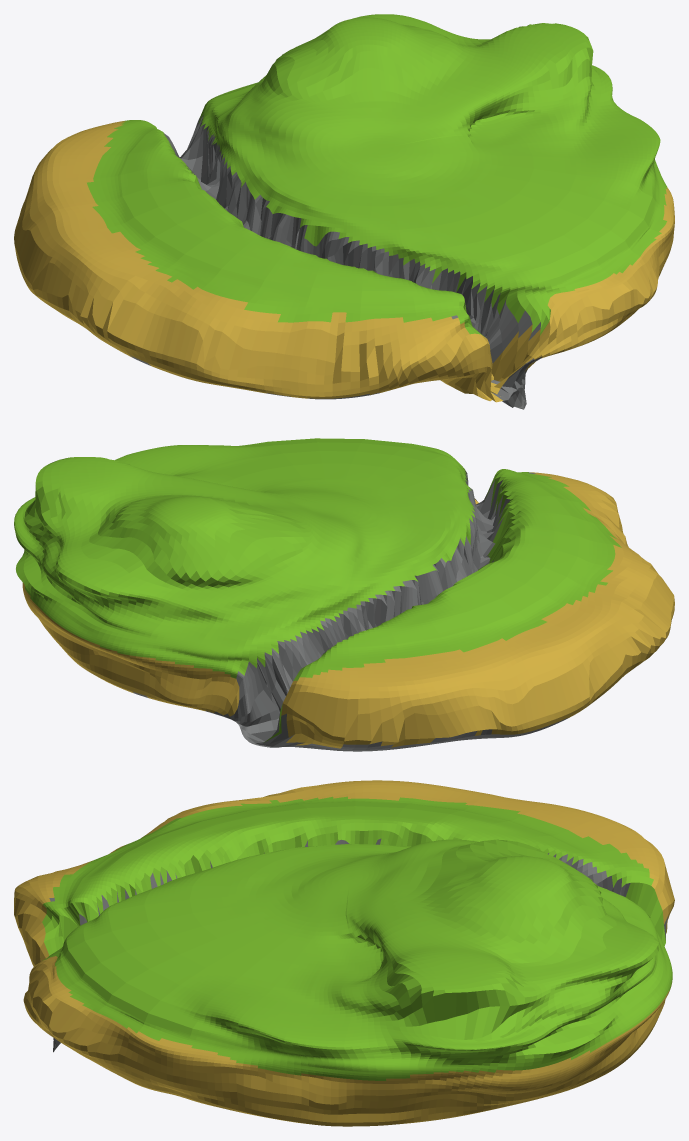
Rendered from mainIsland.fbx.
3 renders of one model, top to bottom at view 1: azimuth 30°, elevation 25°; view 2: azimuth 150°, elevation 25°; view 3: azimuth 270°, elevation 25°, orthographic. The views are drawn at different scales.
Visible parts, largest first — view 1: Sphere; view 2: Sphere; view 3: Sphere.
Boxes of the visible parts, box(x1,y1,x2,y2) form: Sphere: box(14, 14, 674, 409); Sphere: box(14, 438, 674, 751); Sphere: box(14, 780, 674, 1126).
Size of the model in its own units: 557 by 185 by 509.
